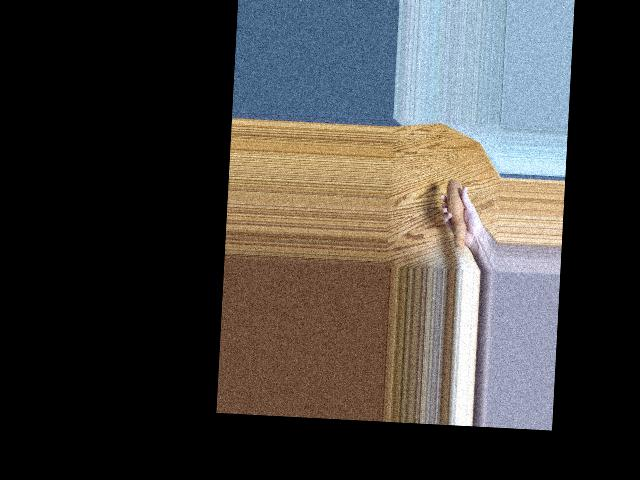sweet_potato: (442, 177, 475, 256)
